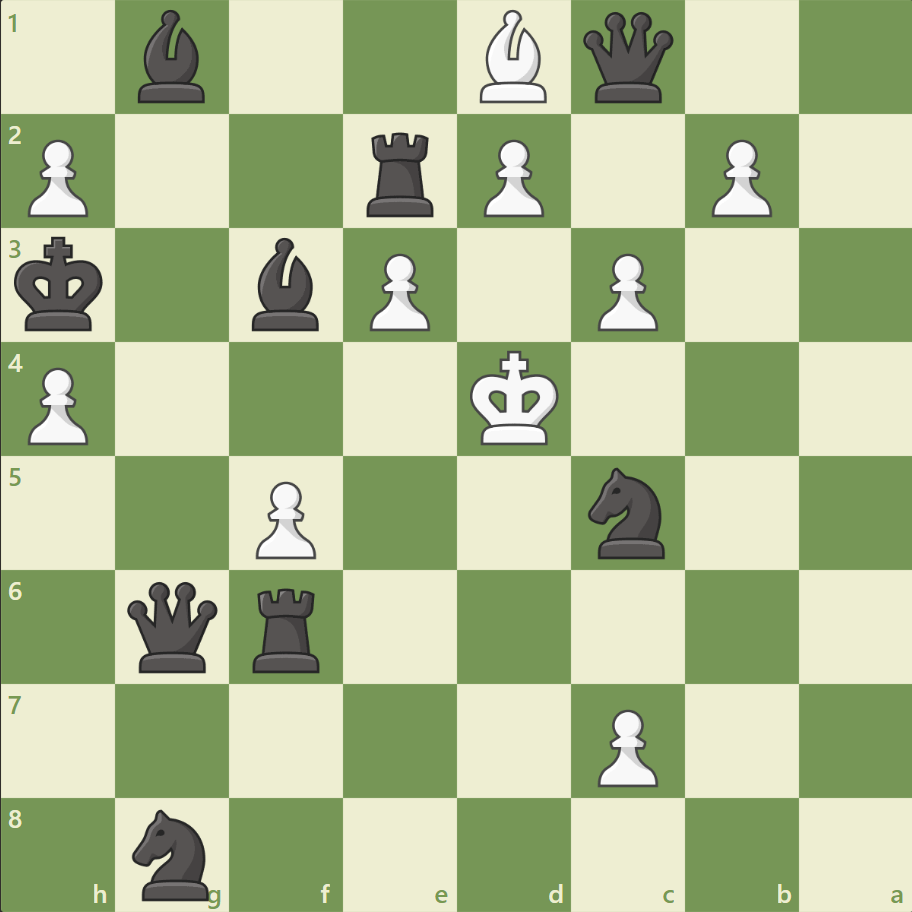B: (471, 6, 555, 109)
K: (465, 344, 565, 452)
P: (247, 473, 322, 564), (20, 359, 95, 450), (701, 132, 776, 223), (474, 132, 549, 223), (20, 132, 95, 223), (588, 700, 662, 791), (588, 246, 662, 337), (361, 246, 435, 337)
b: (244, 233, 328, 336), (131, 6, 215, 109)
k: (11, 231, 111, 339)
n: (124, 802, 222, 904), (579, 461, 676, 564)
q: (124, 576, 223, 676), (578, 9, 677, 108)
r: (246, 579, 329, 676), (360, 125, 442, 222)
